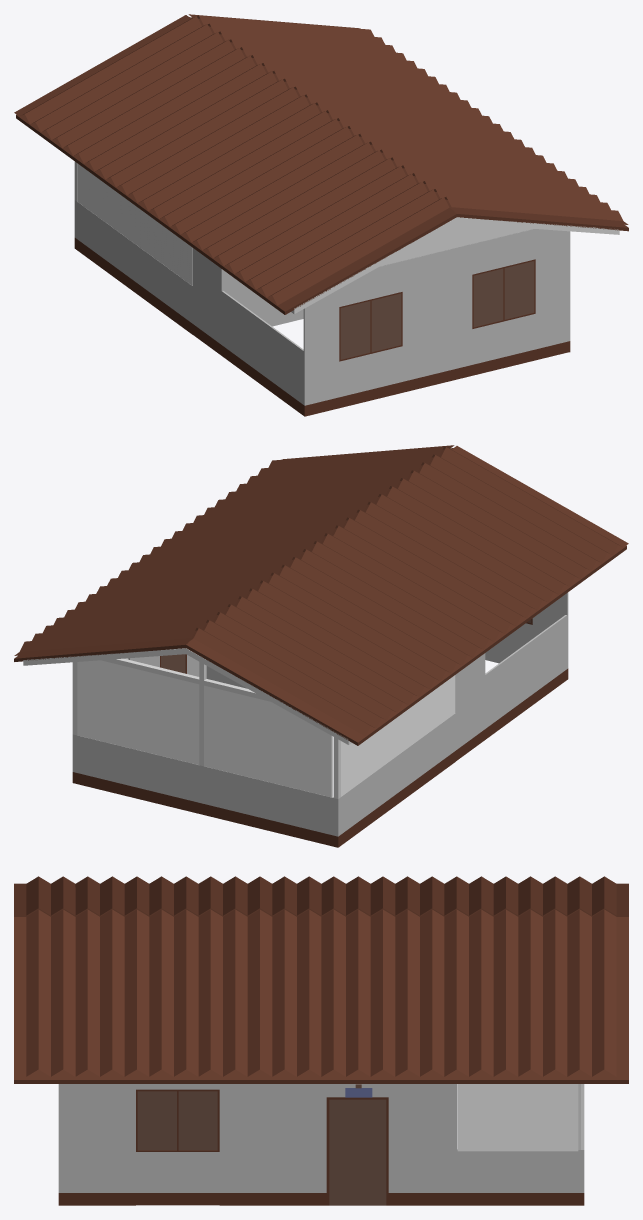
The model's file is Agriculture_building.glb.
The picture shows the model from 3 angles, top to bottom: view 1: azimuth 30°, elevation 25°; view 2: azimuth 150°, elevation 25°; view 3: azimuth 270°, elevation 25°; orthographic projection. The views are drawn at different scales.
Parts seen in each view (by area): view 1: Cube.002, wall, Cube.006, window.001, window.002, Cube, Cube.003; view 2: Cube.002, wall, Cube.006, Cube.001, Cube; view 3: Cube.002, wall, Cube.006, door, window.003, window.004, frame_door, frame_window.001.
Part boxes in pixels (box(x1,y1,x2,y2)): Cube.002: box(14, 14, 628, 314); wall: box(74, 200, 570, 416); Cube.006: box(77, 164, 192, 285); window.001: box(472, 259, 535, 328); window.002: box(339, 292, 402, 361); Cube: box(291, 217, 619, 314); Cube.003: box(380, 223, 533, 266); Cube.002: box(14, 445, 628, 745); wall: box(72, 592, 568, 847); Cube.006: box(77, 658, 455, 797); Cube.001: box(72, 658, 340, 798); Cube: box(23, 648, 351, 744); Cube.002: box(14, 876, 628, 1083); wall: box(58, 1084, 584, 1205); Cube.006: box(457, 1084, 584, 1151); door: box(329, 1099, 386, 1205); window.003: box(137, 1091, 176, 1150); window.004: box(178, 1091, 217, 1150); frame_door: box(326, 1097, 388, 1205); frame_window.001: box(136, 1089, 219, 1151).
Bounding box in the file's own units: 10.43 × 5.59 × 14.03.
